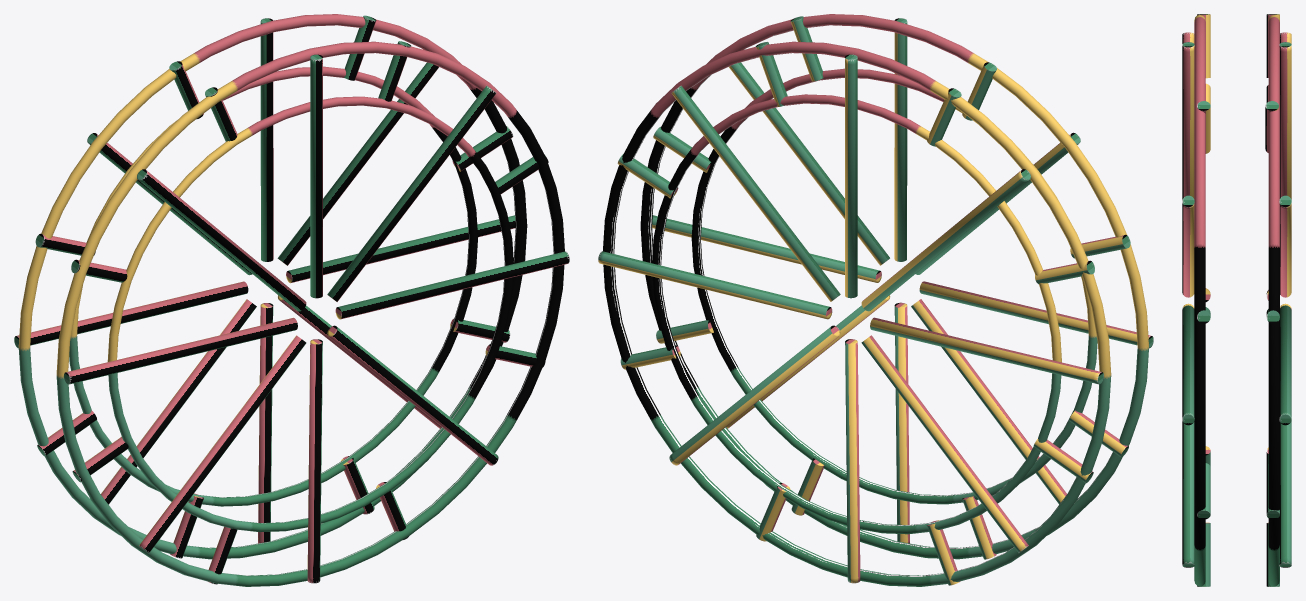
Rendered from rueda_nosillas.obj.
3 views of the same model, side by side, from view 1: azimuth 30°, elevation 25°; view 2: azimuth 150°, elevation 25°; view 3: azimuth 270°, elevation 25° (orthographic). The views are drawn at different scales.
Parts seen in each view (by area): view 1: Brazo_mini.001_Cylinder.009; view 2: Brazo_mini.001_Cylinder.009; view 3: Brazo_mini.001_Cylinder.009.
Boxes of the visible parts, left/top/right/bottom form: Brazo_mini.001_Cylinder.009: left=14, top=14, right=569, bottom=586; Brazo_mini.001_Cylinder.009: left=598, top=14, right=1153, bottom=586; Brazo_mini.001_Cylinder.009: left=1182, top=14, right=1291, bottom=586.
Bounding box in the file's own units: 50.74 × 50.74 × 9.7.
